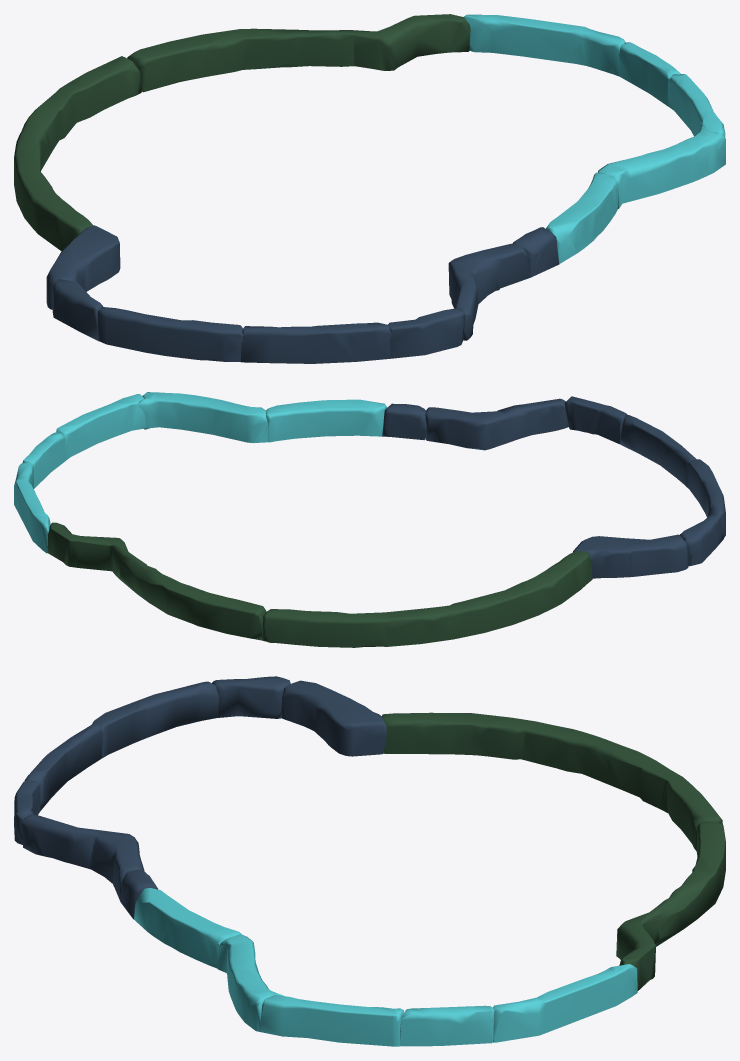
Rendered from SM_ArenaEdge01.fbx.
The picture shows the model from 3 angles, top to bottom: view 1: azimuth 30°, elevation 25°; view 2: azimuth 150°, elevation 25°; view 3: azimuth 270°, elevation 25°; orthographic projection. The views are drawn at different scales.
Visible parts, largest first — view 1: SM_ArenaEdge01; view 2: SM_ArenaEdge01; view 3: SM_ArenaEdge01.
Boxes of the visible parts, x1=… form: SM_ArenaEdge01: x1=14, y1=14, x2=725, y2=363; SM_ArenaEdge01: x1=14, y1=392, x2=725, y2=647; SM_ArenaEdge01: x1=14, y1=676, x2=725, y2=1046.
Bounding box in the file's own units: 3930 × 188 × 3478.
